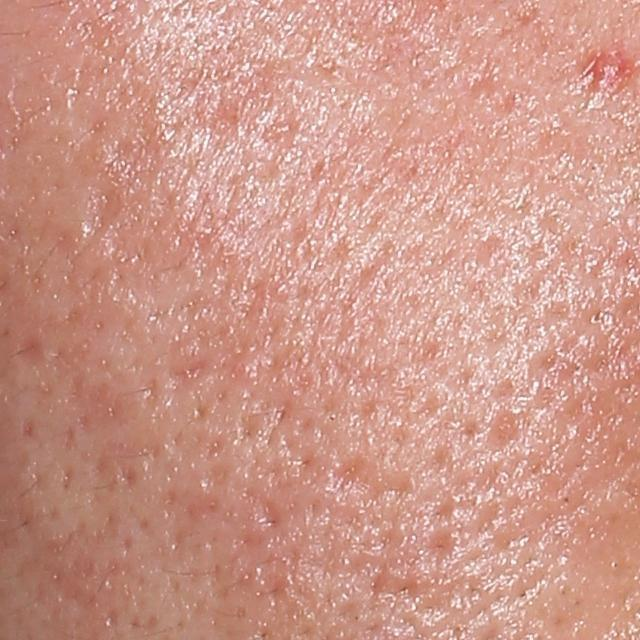atrophic_scar: (83, 175, 130, 256), (322, 454, 371, 495), (484, 408, 522, 452), (250, 487, 287, 532), (424, 525, 458, 571), (169, 358, 214, 388), (19, 331, 49, 366)
papule: (587, 44, 634, 84)
